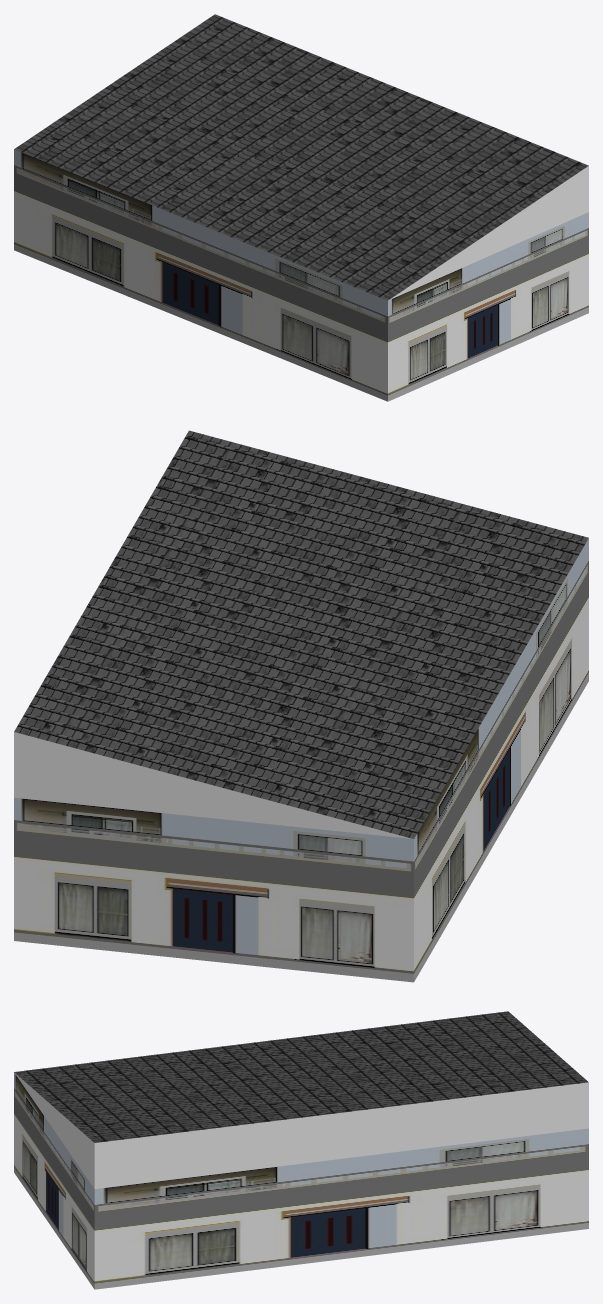
3 renders of one model, top to bottom at view 1: azimuth 30°, elevation 25°; view 2: azimuth 150°, elevation 25°; view 3: azimuth 270°, elevation 25°, orthographic. The views are drawn at different scales.
Parts seen in each view (by area): view 1: CityEngineMaterial_8_m, CityEngineMaterial_7_m, CityEngineMaterial_3_m; view 2: CityEngineMaterial_8_m, CityEngineMaterial_7_m, CityEngineMaterial_3_m; view 3: CityEngineMaterial_7_m, CityEngineMaterial_8_m, CityEngineMaterial_3_m.
Part boxes in pixels (x1=…): CityEngineMaterial_8_m: x1=14, y1=14, x2=588, y2=300; CityEngineMaterial_7_m: x1=14, y1=149, x2=588, y2=401; CityEngineMaterial_3_m: x1=389, y1=166, x2=588, y2=299; CityEngineMaterial_8_m: x1=14, y1=430, x2=588, y2=838; CityEngineMaterial_7_m: x1=14, y1=538, x2=588, y2=982; CityEngineMaterial_3_m: x1=14, y1=732, x2=412, y2=838; CityEngineMaterial_7_m: x1=14, y1=1072, x2=588, y2=1289; CityEngineMaterial_8_m: x1=14, y1=1011, x2=588, y2=1142; CityEngineMaterial_3_m: x1=14, y1=1072, x2=588, y2=1188.
Size of the model in its own units: 24.82 by 9.54 by 33.9.
